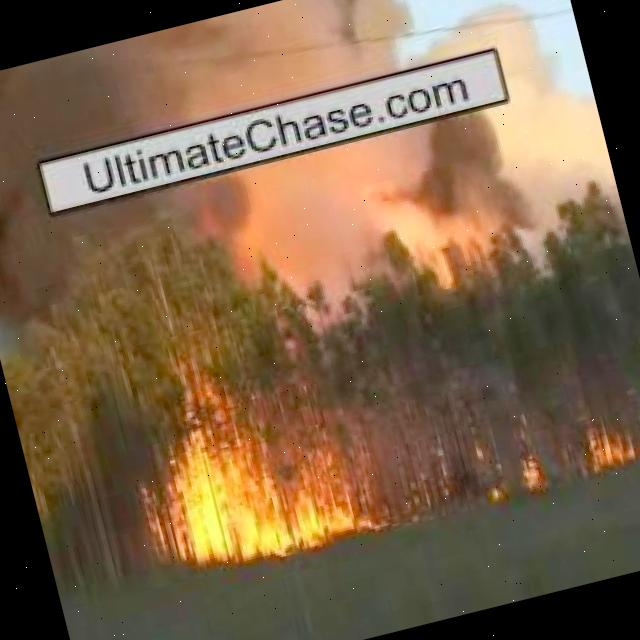fire: (172, 401, 370, 569), (580, 419, 638, 477), (514, 449, 546, 494)
